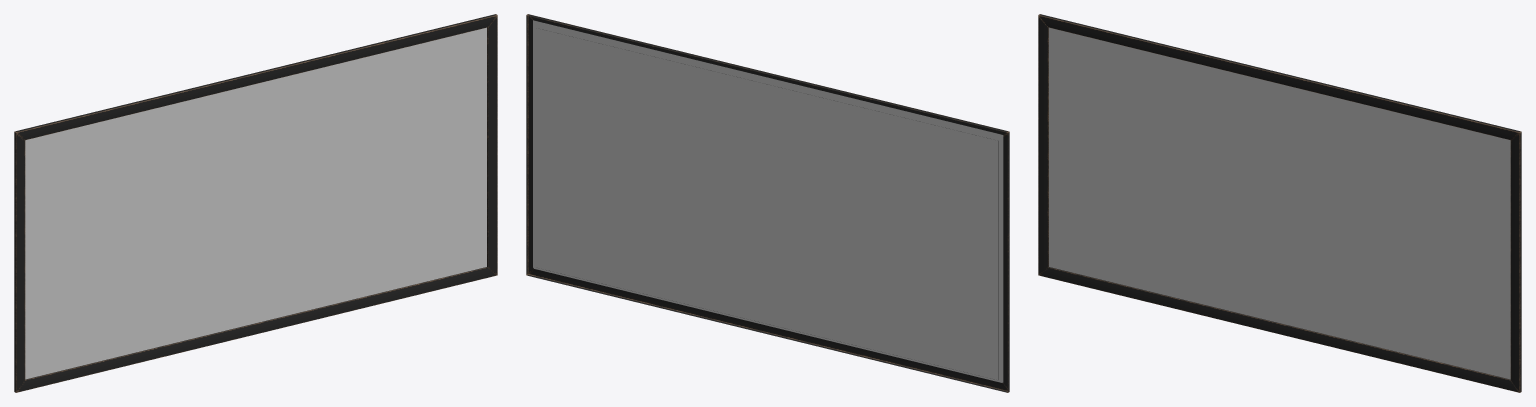
The model's file is Picture_4.FBX.
3 views of the same model, side by side, from view 1: azimuth 30°, elevation 25°; view 2: azimuth 150°, elevation 25°; view 3: azimuth 330°, elevation 25° (orthographic).
Visible parts, largest first — view 1: Glass, Picture; view 2: paint, Picture, Glass; view 3: Glass, Picture.
Boxes of the visible parts, bbox=[...] form: Glass: bbox=[25, 27, 486, 379]; Picture: bbox=[14, 14, 497, 392]; paint: bbox=[533, 23, 1002, 382]; Picture: bbox=[526, 14, 1009, 392]; Glass: bbox=[533, 20, 1003, 382]; Glass: bbox=[1049, 27, 1510, 379]; Picture: bbox=[1038, 14, 1521, 392].
Size of the model in its own units: 178 by 91.95 by 1.25.
